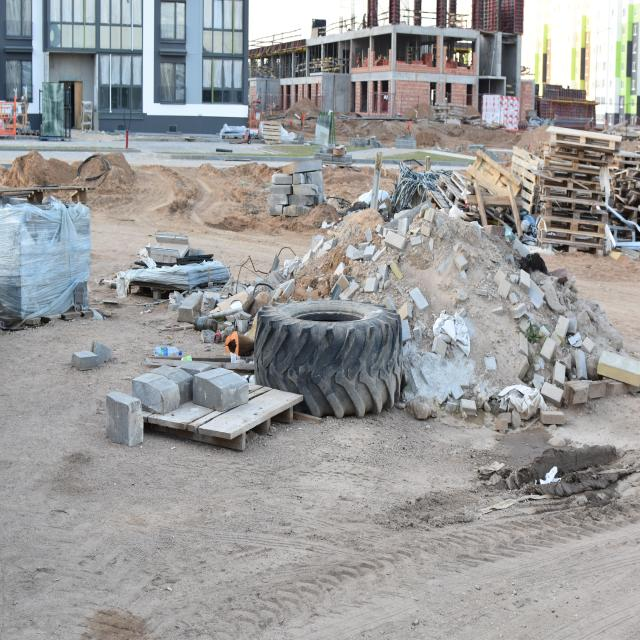entulho: (248, 289, 413, 421), (100, 354, 311, 456), (356, 152, 538, 239), (526, 310, 640, 430), (0, 192, 100, 325), (532, 128, 627, 255), (186, 260, 311, 347), (107, 223, 230, 304), (510, 145, 544, 216), (482, 90, 520, 130), (69, 336, 111, 370), (216, 120, 261, 146), (349, 131, 382, 152), (262, 120, 286, 144), (443, 103, 468, 122), (396, 132, 418, 151), (432, 102, 447, 124)
terra: (272, 186, 613, 416), (0, 152, 144, 203)
